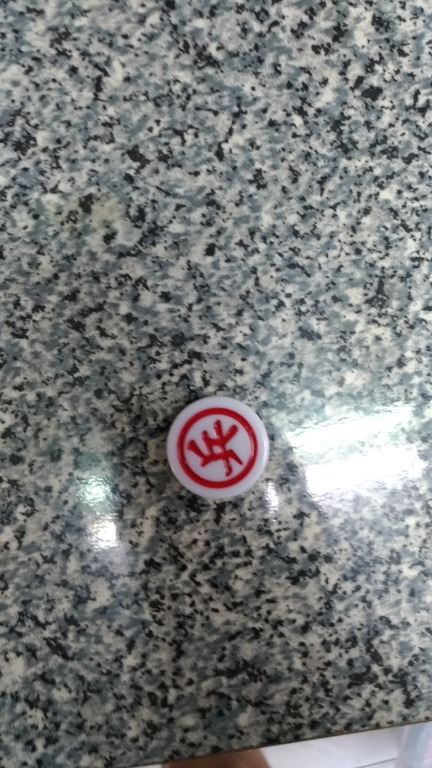r-pawn: (161, 394, 278, 502)
